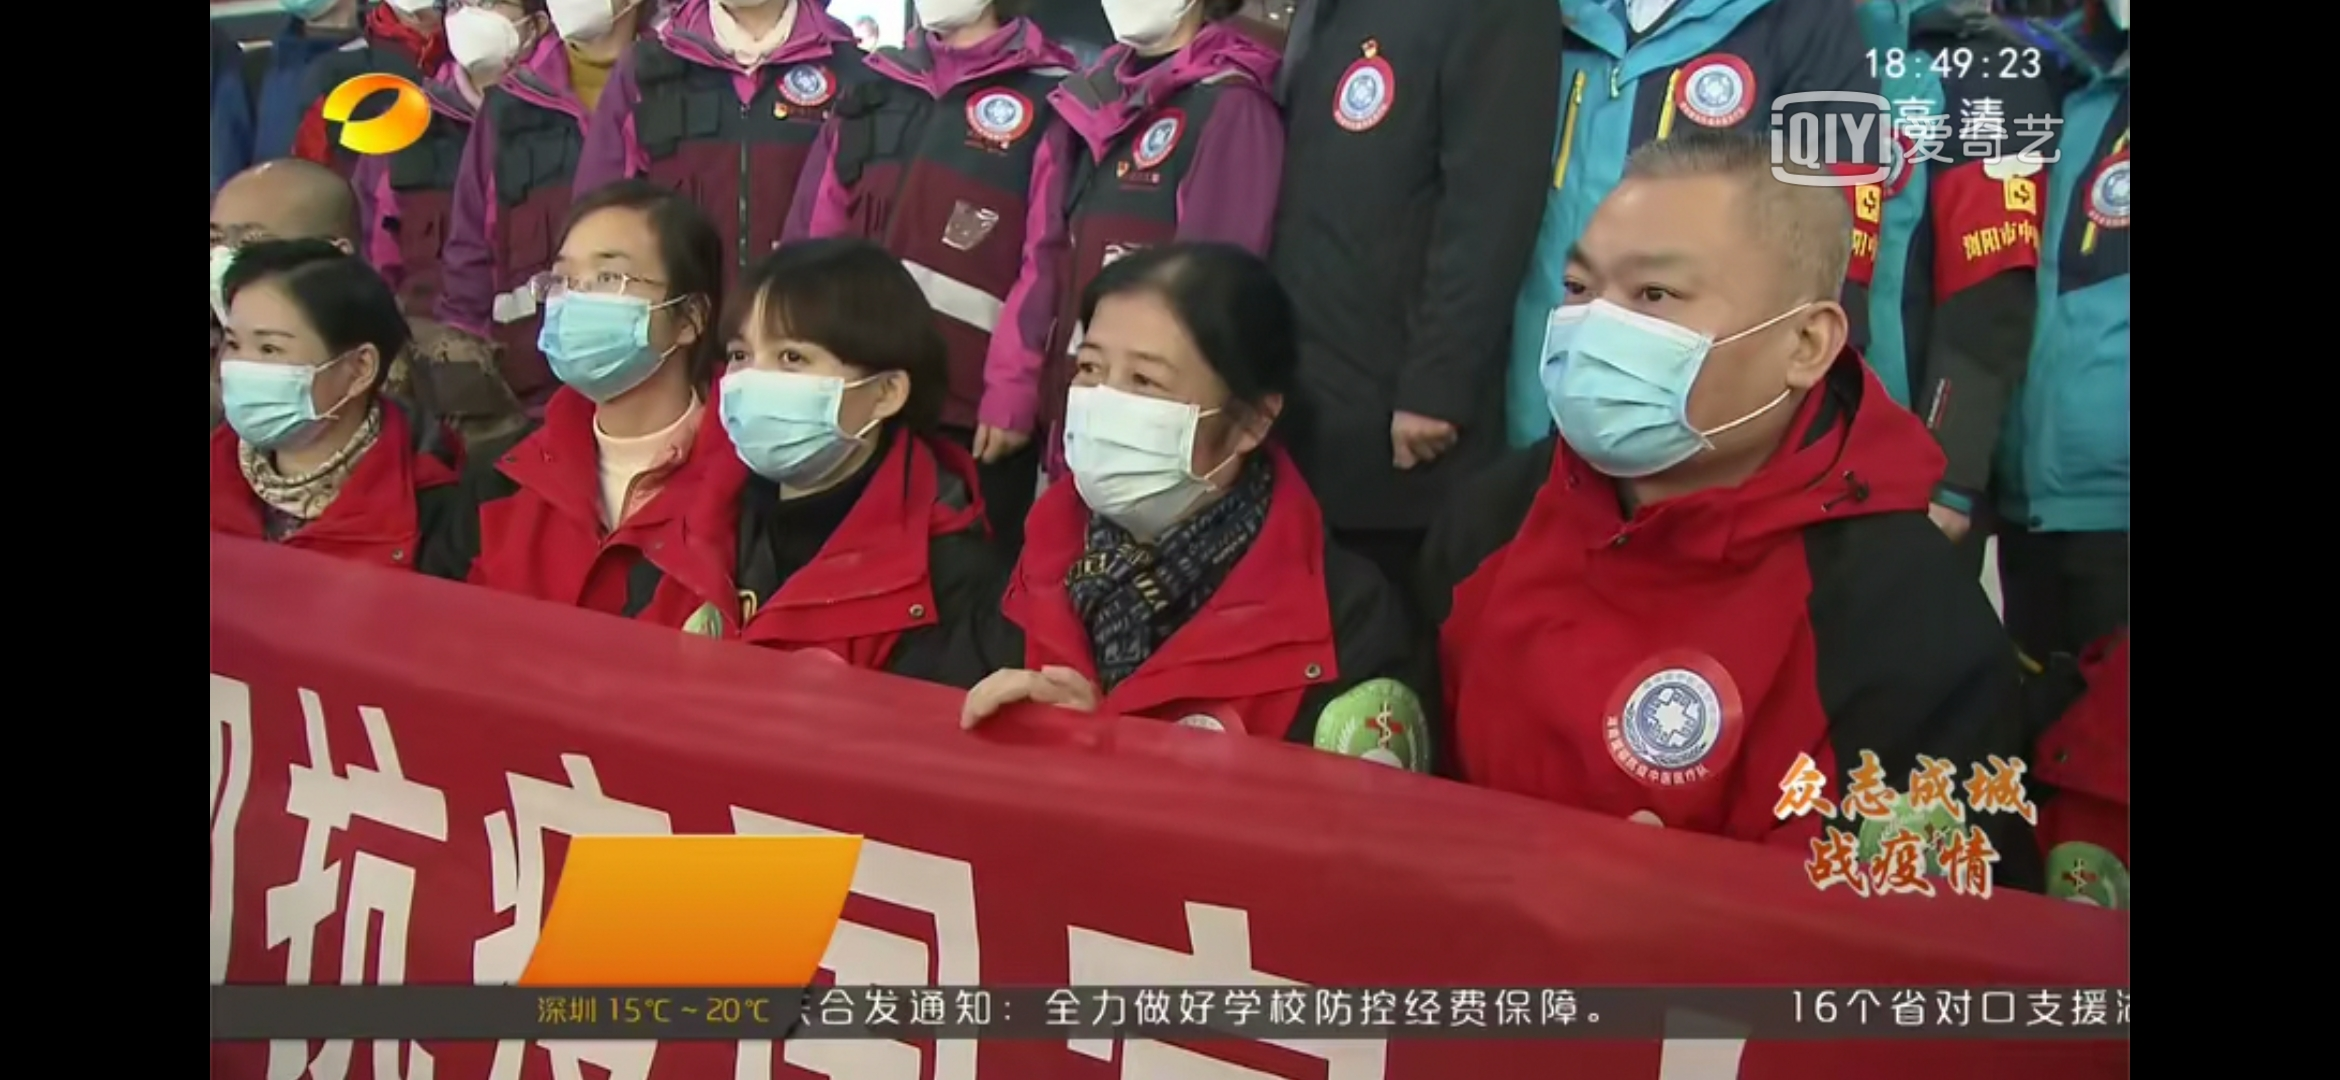correctlyWear: (1536, 215, 1851, 486), (1061, 322, 1261, 522), (713, 328, 909, 492), (545, 237, 706, 422), (219, 304, 390, 464), (210, 227, 355, 309), (442, 1, 551, 75)
